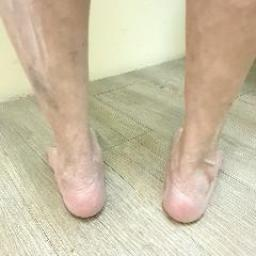Back View -Both Feet-: (30, 110, 239, 237)
